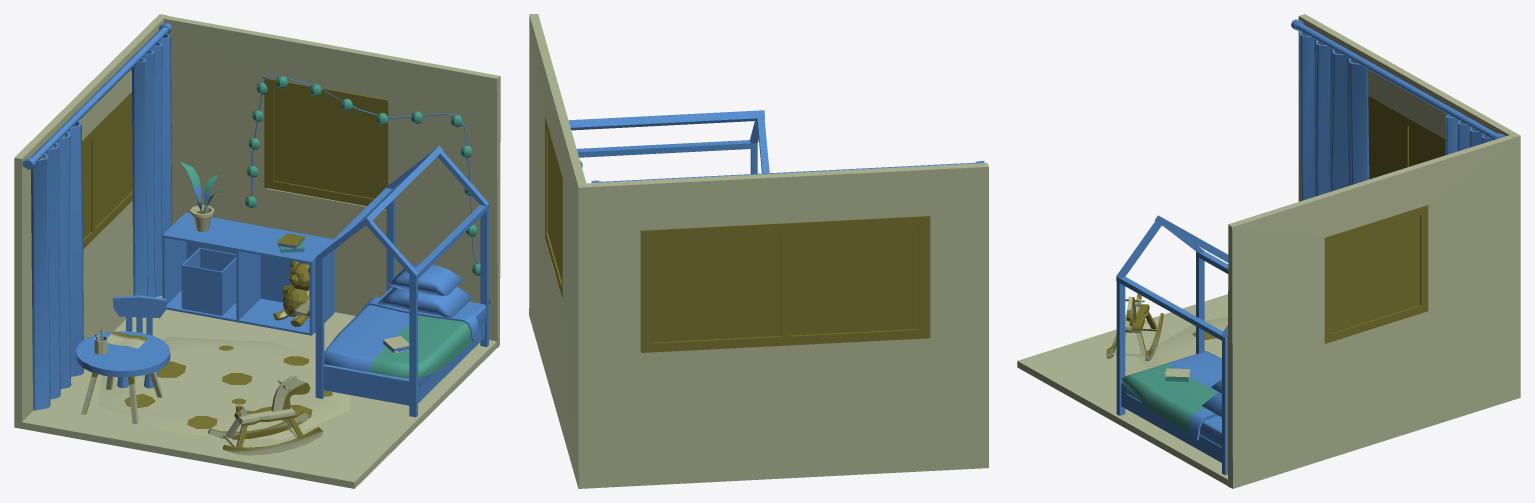
Rendered from Children's_Room.fbx.
The picture shows the model from 3 angles, left to right: view 1: azimuth 30°, elevation 25°; view 2: azimuth 150°, elevation 25°; view 3: azimuth 270°, elevation 25°; orthographic projection. The views are drawn at different scales.
Parts seen in each view (by area): view 1: Childrens_Room_Wall, Childrens_Room_Base, Childrens_Room, Childrens_Room_Bed, Childrens_Room_Carpet, Childrens_Room_Curtain, Childrens_Room_Shelf, Childrens_Room_Window, Childrens_Room_Horse, Childrens_Room_Box, Childrens_Room_Table, Childrens_Room_Lights (+5 smaller); view 2: Childrens_Room_Base, Childrens_Room_Window, Childrens_Room_Wall, Childrens_Room_Bed, Childrens_Room, Childrens_Room_Cornice; view 3: Childrens_Room_Wall, Childrens_Room_Base, Childrens_Room_Bed, Childrens_Room, Childrens_Room_Curtain, Childrens_Room_Window, Childrens_Room_Cornice, Childrens_Room_Carpet, Childrens_Room_Horse.
Part boxes in pixels (box(x1,y1,x2,y2)): Childrens_Room_Wall: box(164, 16, 500, 347); Childrens_Room_Base: box(14, 14, 496, 488); Childrens_Room: box(131, 33, 388, 297); Childrens_Room_Bed: box(315, 145, 489, 417); Childrens_Room_Carpet: box(98, 336, 350, 439); Childrens_Room_Curtain: box(31, 120, 83, 410); Childrens_Room_Shelf: box(162, 212, 334, 335); Childrens_Room_Window: box(82, 92, 132, 248); Childrens_Room_Horse: box(208, 373, 323, 455); Childrens_Room_Box: box(181, 247, 236, 315); Childrens_Room_Table: box(76, 331, 170, 377); Childrens_Room_Lights: box(245, 76, 490, 303); Childrens_Room_Base: box(529, 163, 988, 488); Childrens_Room_Window: box(640, 216, 930, 352); Childrens_Room_Wall: box(529, 14, 586, 475); Childrens_Room_Bed: box(568, 110, 769, 173); Childrens_Room: box(545, 117, 562, 298); Childrens_Room_Cornice: box(591, 161, 984, 182); Childrens_Room_Wall: box(1228, 135, 1514, 488); Childrens_Room_Base: box(1017, 14, 1520, 488); Childrens_Room_Bed: box(1116, 215, 1228, 475); Childrens_Room: box(1324, 114, 1493, 343); Childrens_Room_Curtain: box(1299, 30, 1369, 200); Childrens_Room_Window: box(1368, 95, 1445, 179); Childrens_Room_Cornice: box(1291, 19, 1505, 139); Childrens_Room_Carpet: box(1137, 317, 1227, 369); Childrens_Room_Horse: box(1106, 293, 1163, 360).
Size of the model in its own units: 700 by 402 by 700.
